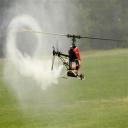helicopter: (23, 31, 128, 82)
